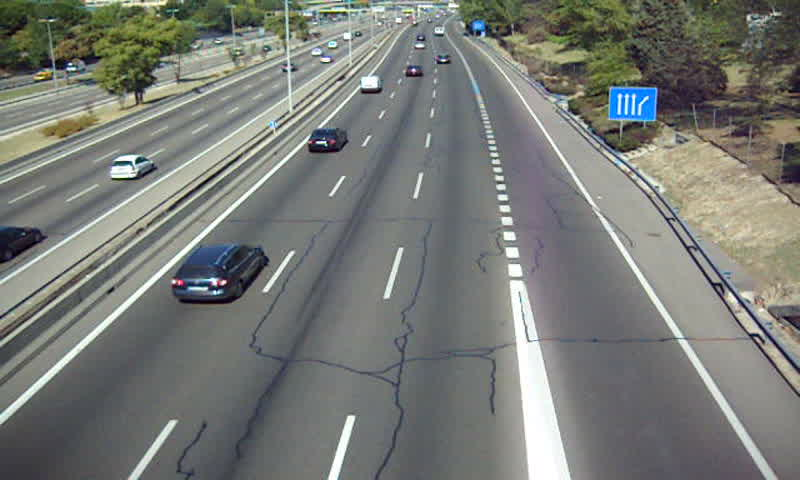car: (170, 244, 263, 303), (307, 128, 347, 155), (406, 64, 423, 79)
van: (360, 76, 380, 94)
